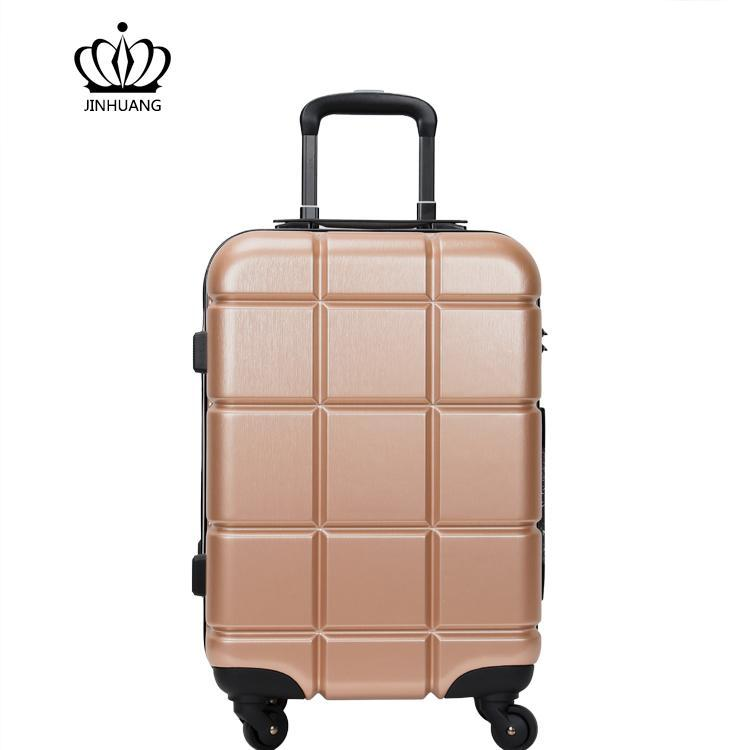suitcase: (183, 206, 555, 707)
